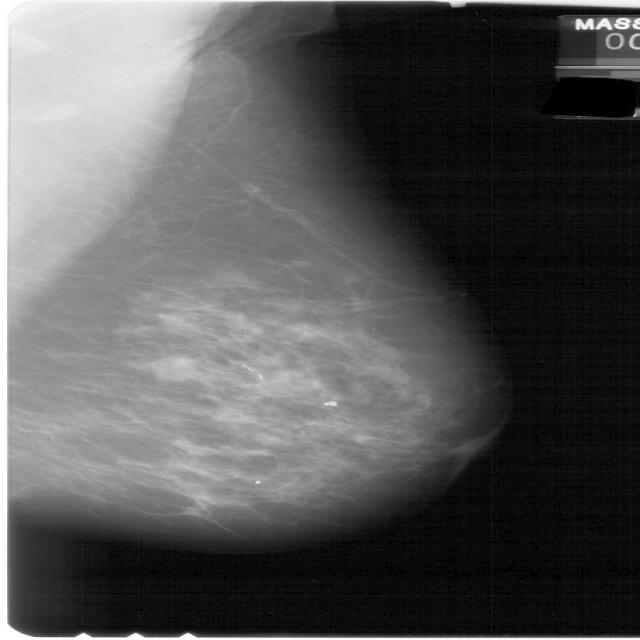tumour: (141, 354, 192, 378)
